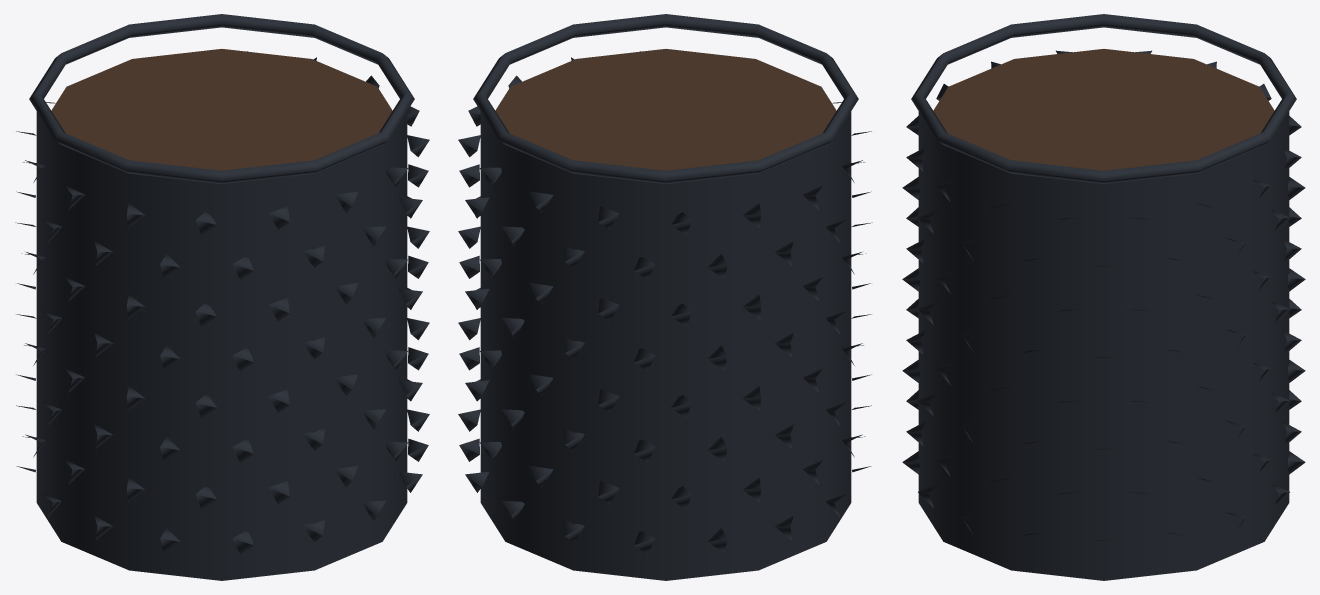
The model's file is pot-family--airpot-10l.glb.
3 views of the same model, side by side, from view 1: azimuth 30°, elevation 25°; view 2: azimuth 150°, elevation 25°; view 3: azimuth 270°, elevation 25° (orthographic).
Visible parts, largest first — view 1: pot_body, soil_surface, pot_rim; view 2: pot_body, soil_surface, pot_rim; view 3: pot_body, soil_surface, pot_rim.
Boxes of the visible parts, box(x1,y1,x2,y2) form: pot_body: box(15, 51, 429, 580); soil_surface: box(51, 49, 392, 170); pot_rim: box(29, 14, 414, 184); pot_body: box(458, 51, 872, 580); soil_surface: box(495, 49, 836, 170); pot_rim: box(473, 14, 858, 184); pot_body: box(902, 50, 1305, 580); soil_surface: box(933, 49, 1274, 170); pot_rim: box(911, 14, 1296, 184).
Size of the model in its own units: 0.272 by 0.305 by 0.272.
